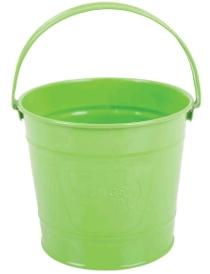SEAU: (5, 0, 200, 274)
